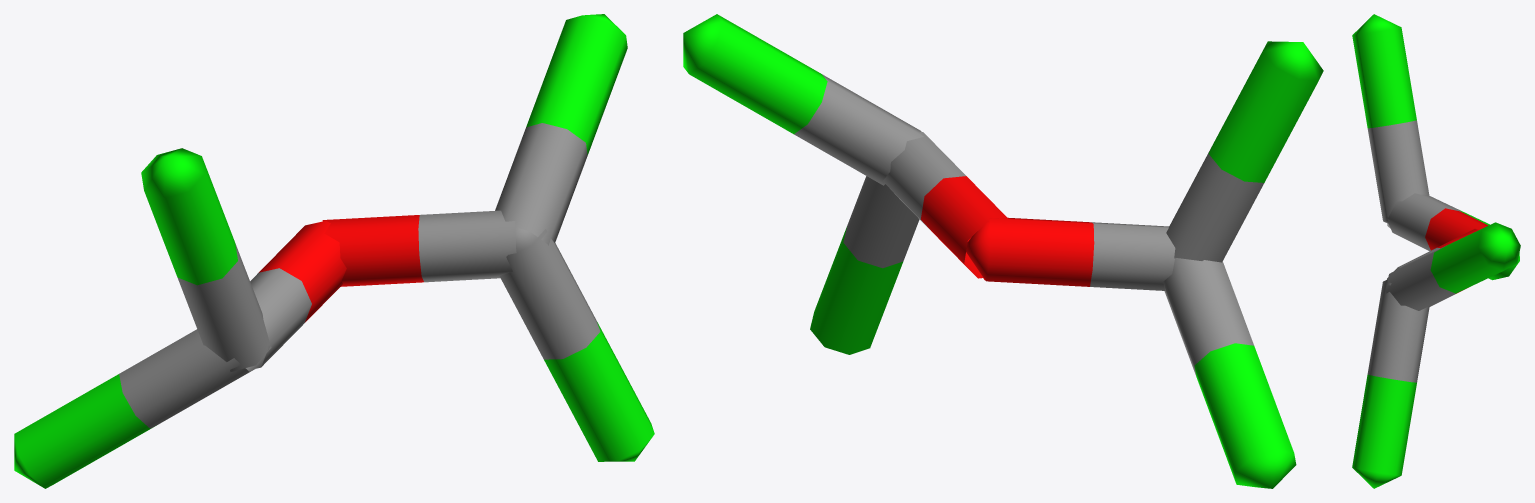
The model's file is bisether.glb.
The picture shows the model from 3 angles, left to right: view 1: azimuth 30°, elevation 25°; view 2: azimuth 150°, elevation 25°; view 3: azimuth 270°, elevation 25°; orthographic projection. The views are drawn at different scales.
Visible parts, largest first — view 1: node-geom10; view 2: node-geom10; view 3: node-geom10.
Boxes of the visible parts, bbox=[...] form: node-geom10: bbox=[14, 14, 654, 488]; node-geom10: bbox=[683, 14, 1323, 488]; node-geom10: bbox=[1352, 14, 1520, 488].
Bounding box in the file's own units: 5.13 × 3.37 × 1.68.
